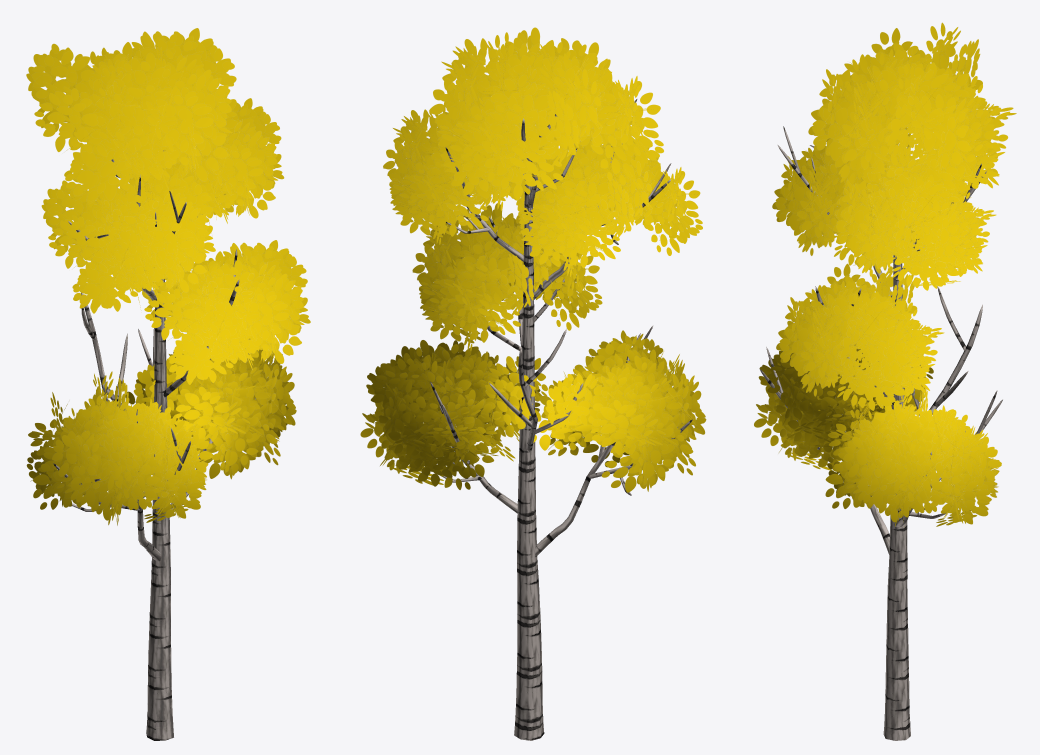
File: BirchTree_2.glb
The picture shows the model from 3 angles, left to right: view 1: azimuth 30°, elevation 25°; view 2: azimuth 150°, elevation 25°; view 3: azimuth 270°, elevation 25°; orthographic projection. The views are drawn at different scales.
Visible parts, largest first — view 1: BirchTree_2; view 2: BirchTree_2; view 3: BirchTree_2.
Part boxes in pixels (<box>): BirchTree_2: <box>26,28,310,740</box>; BirchTree_2: <box>360,27,706,740</box>; BirchTree_2: <box>754,22,1016,740</box>.
Bounding box in the file's own units: 3.35 × 7.57 × 2.81.
2 materials, 2 textured.
